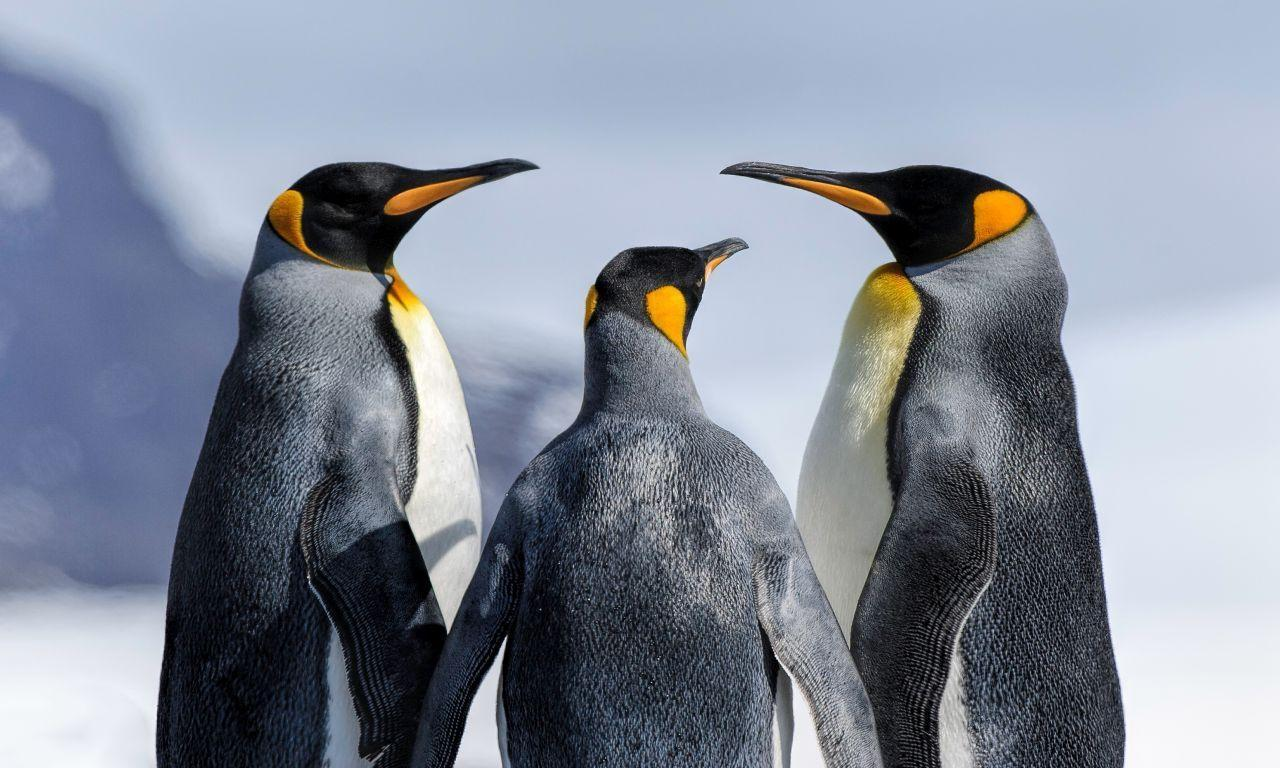Penguin: (408, 236, 883, 767), (713, 161, 1120, 765), (158, 157, 546, 764)
